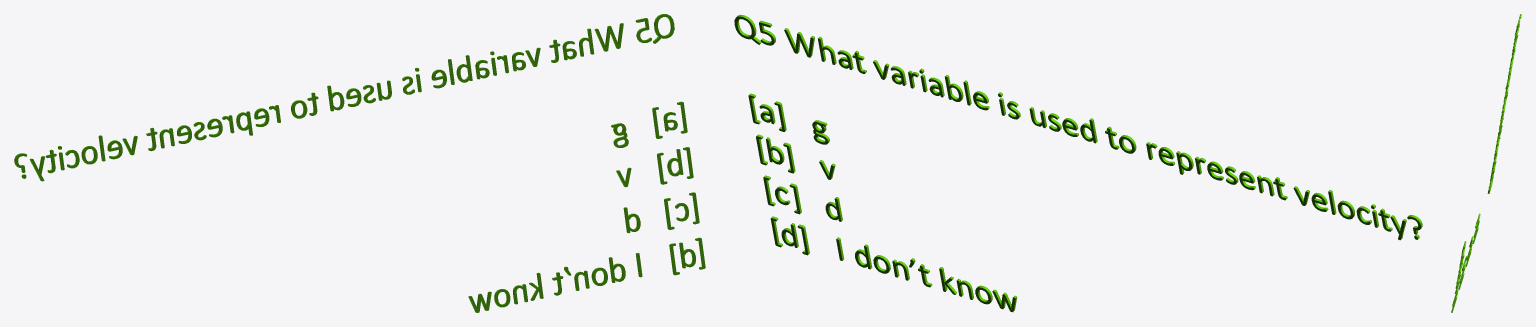
The model's file is AST_q5.fbx.
3 views of the same model, side by side, from view 1: azimuth 30°, elevation 25°; view 2: azimuth 150°, elevation 25°; view 3: azimuth 270°, elevation 25° (orthographic). The views are drawn at different scales.
Parts seen in each view (by area): view 1: q5; view 2: q5; view 3: q5.
Part boxes in pixels (x1=…): q5: x1=14, y1=14, x2=705, y2=312; q5: x1=734, y1=14, x2=1422, y2=312; q5: x1=1451, y1=14, x2=1521, y2=312.
Bounding box in the file's own units: 118 × 41.35 × 20.28.
